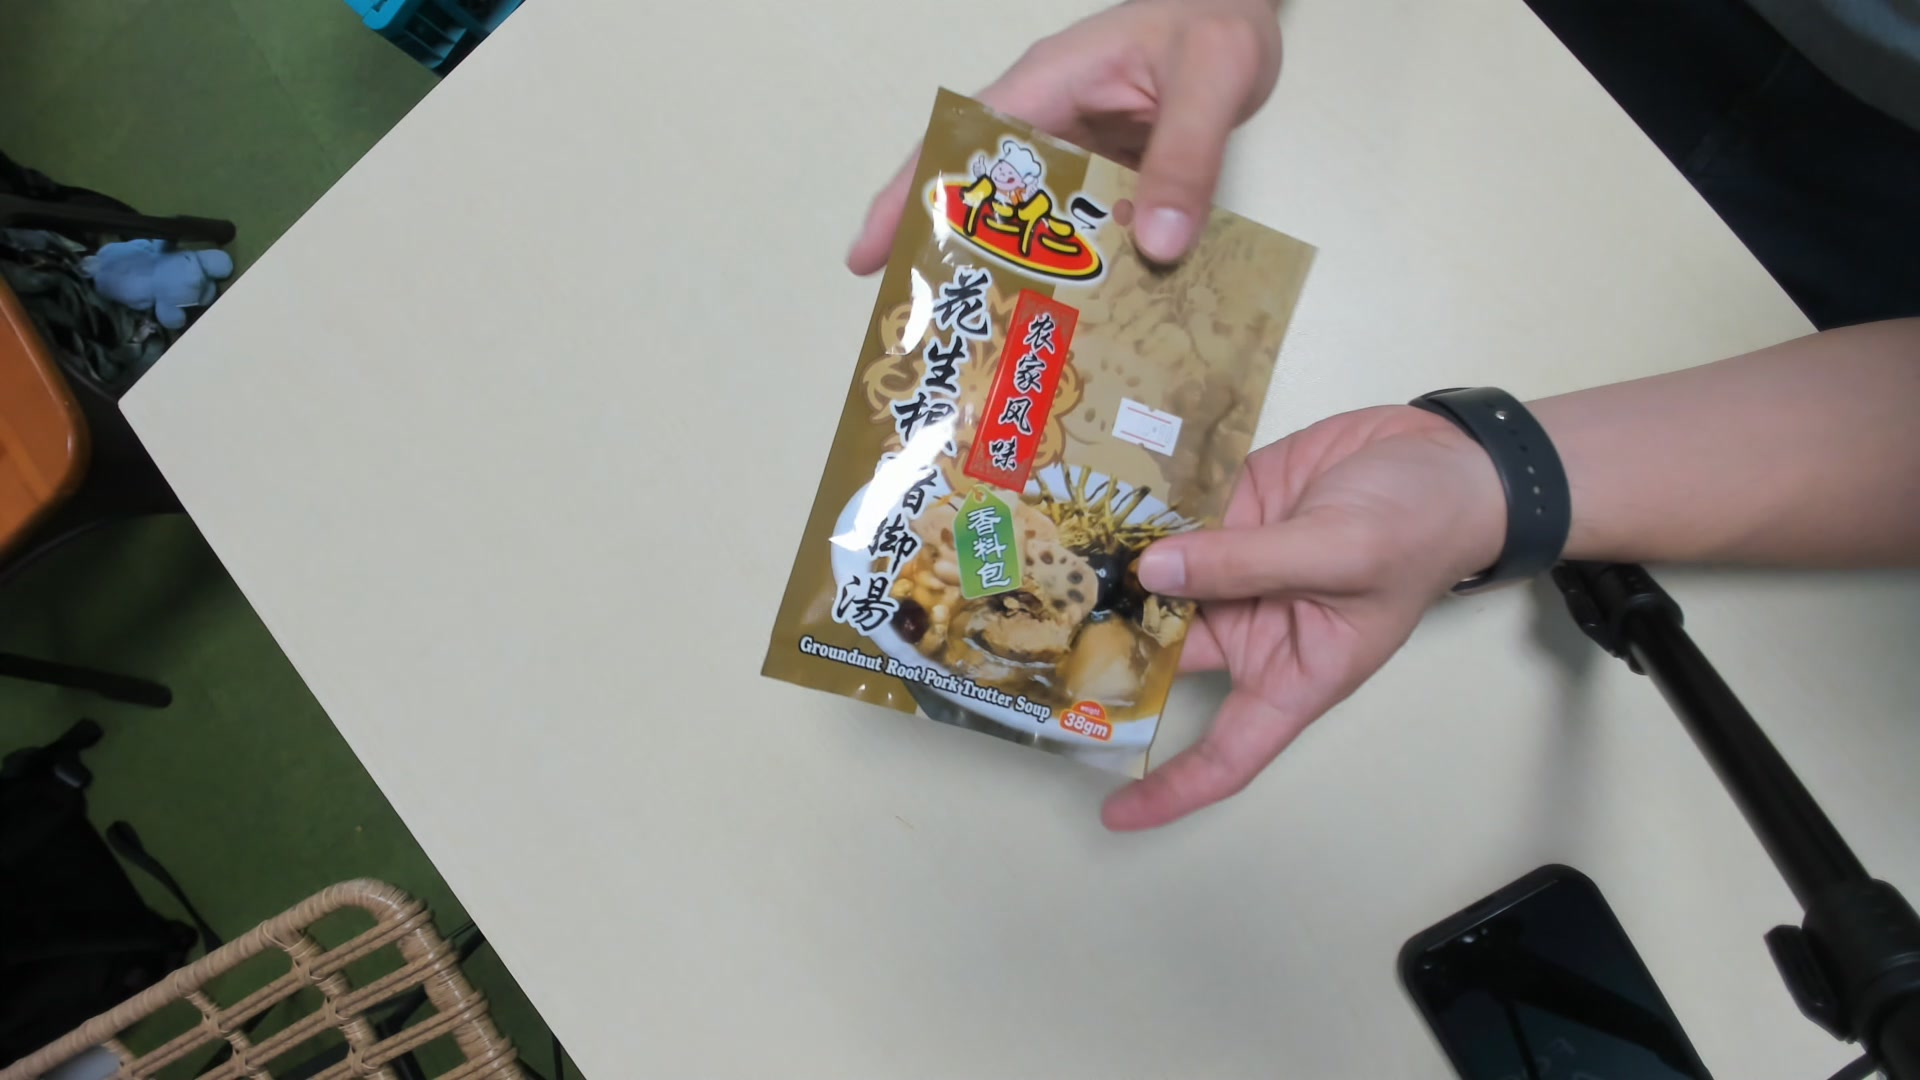OtherSauceDressing_0-99g_NonHalal_NonHealthy: (764, 87, 1324, 775)
